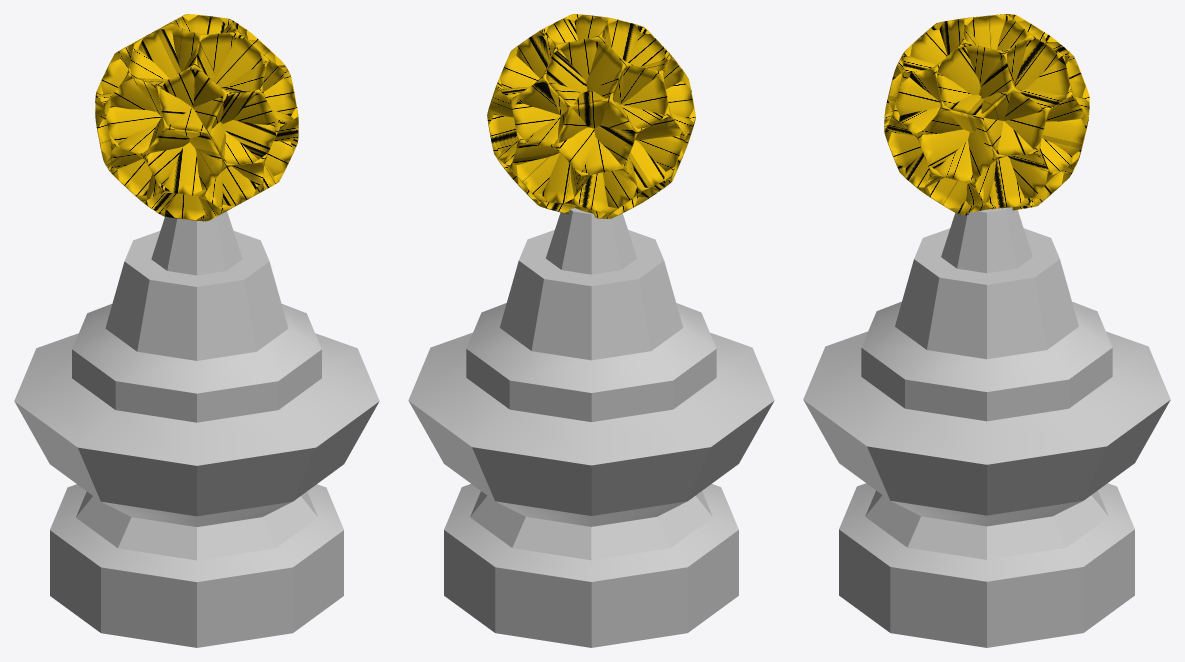
Rendered from HoneyTurret.FBX.
3 views of the same model, side by side, from view 1: azimuth 30°, elevation 25°; view 2: azimuth 150°, elevation 25°; view 3: azimuth 270°, elevation 25° (orthographic).
Parts seen in each view (by area): view 1: Cylinder001; view 2: Cylinder001; view 3: Cylinder001.
Boxes of the visible parts, bbox=[...] form: Cylinder001: bbox=[14, 14, 379, 647]; Cylinder001: bbox=[408, 14, 774, 647]; Cylinder001: bbox=[803, 14, 1170, 647].
Size of the model in its own units: 99.41 by 170 by 101.
